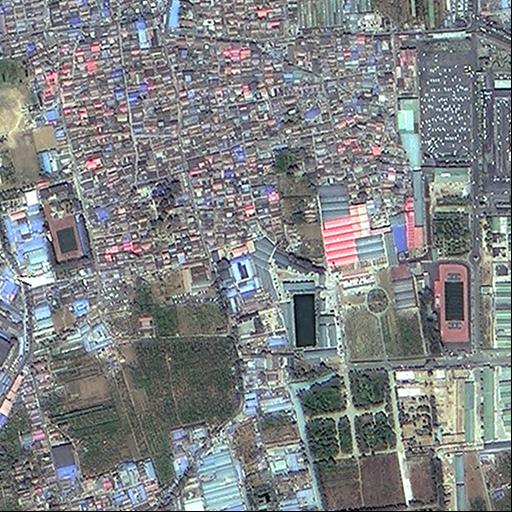school: (412, 162, 474, 352), (37, 176, 90, 271)
